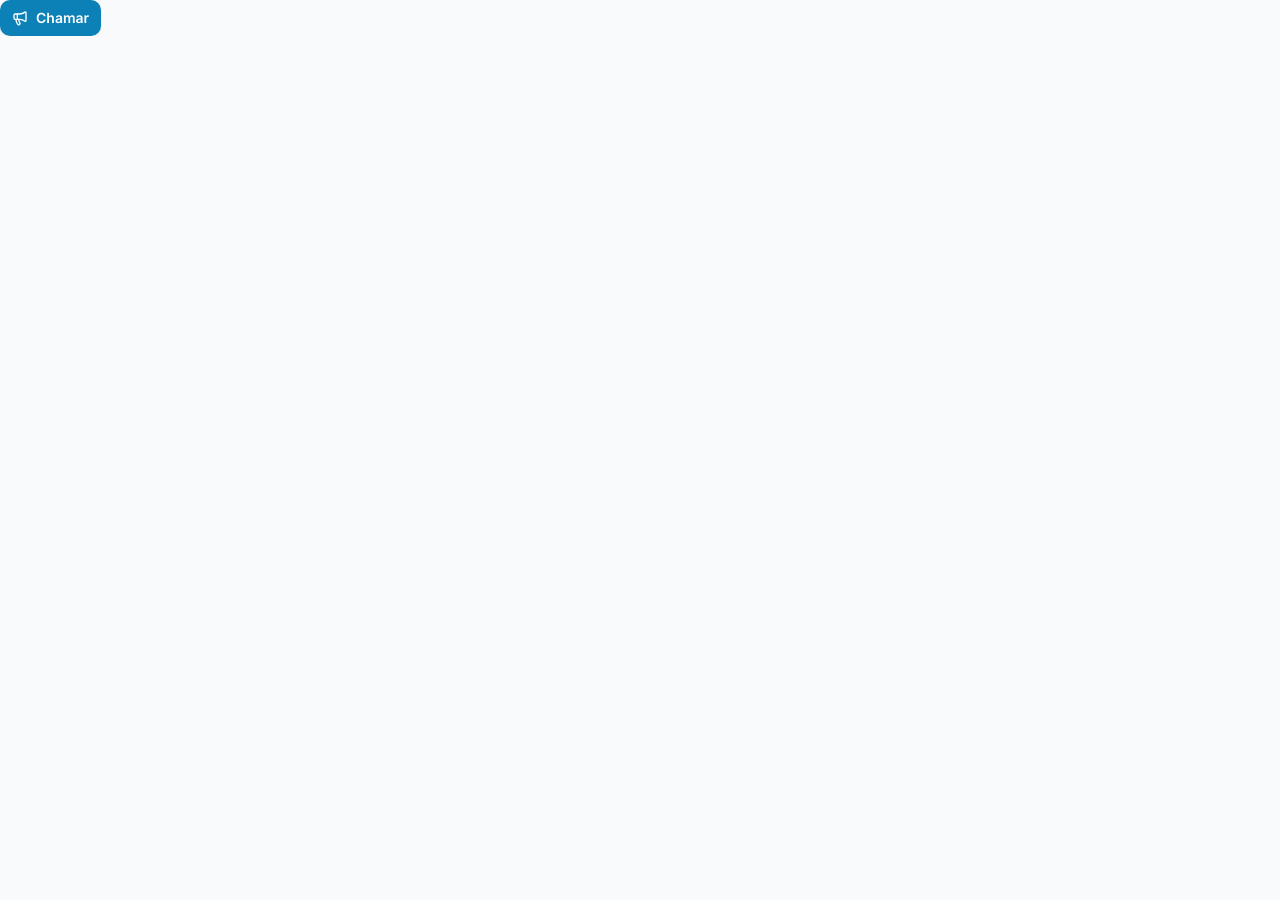
Scenario: botão de chamadas › ignora a antiga sala global e conserva a sugestão específica da Triagem
Later steps or results of the test are not shown.
Step 1. Click the button with aria-label "Chamar paciente no painel" → click(51, 18), box [0,0,101,36]
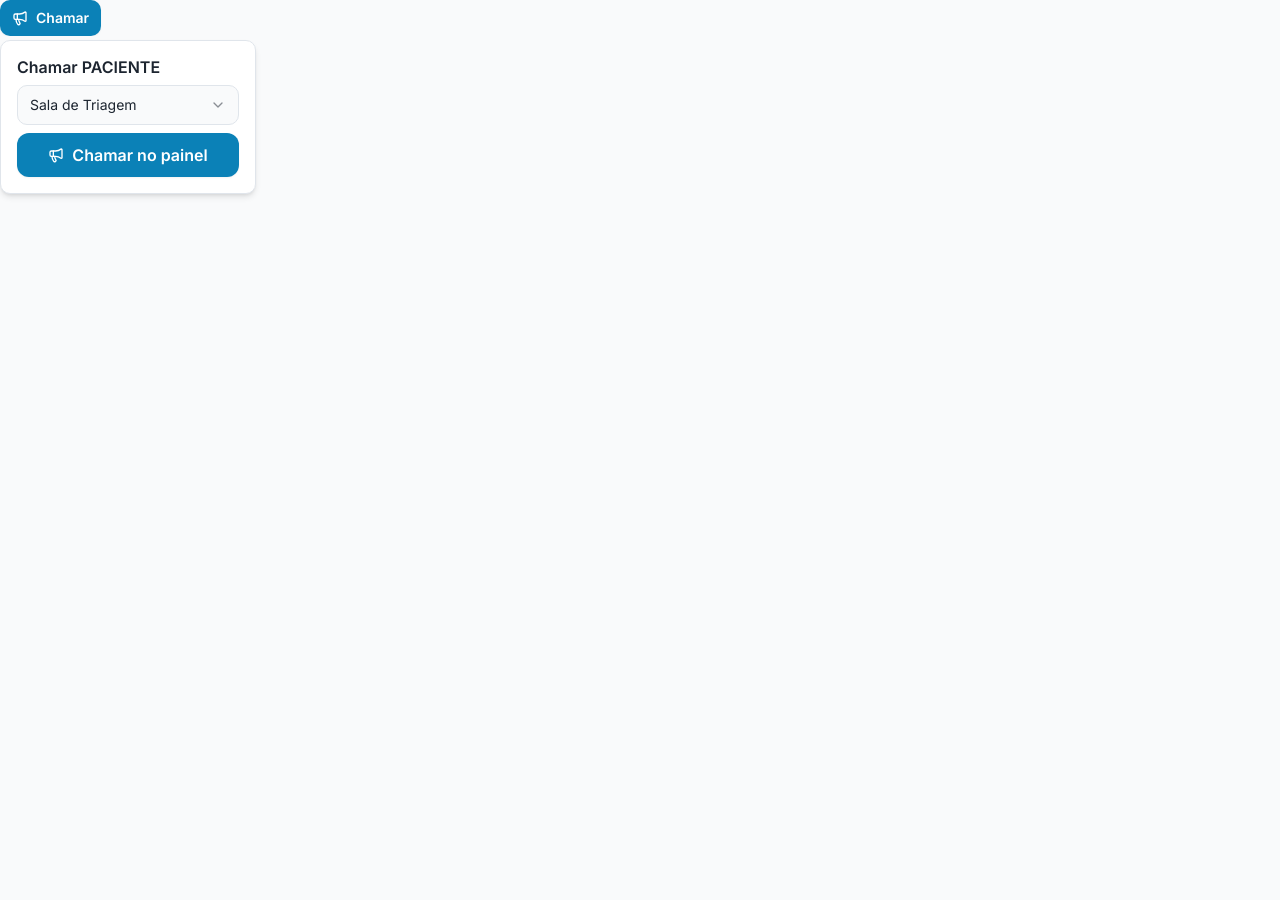
Now the button "Chamar no painel" is enabled, box [17,133,239,177]
